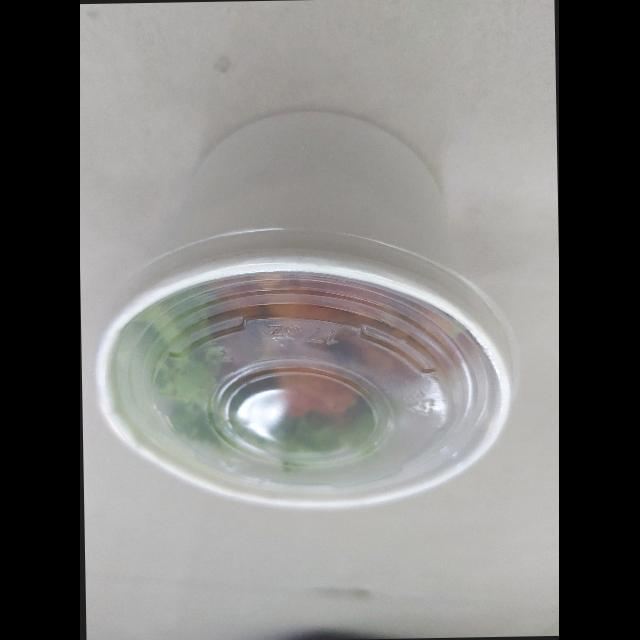rice-bowl: (80, 92, 532, 526)
